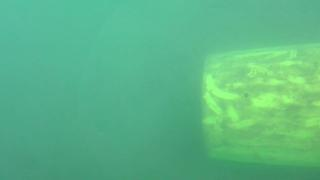pipe: (201, 42, 320, 168)
